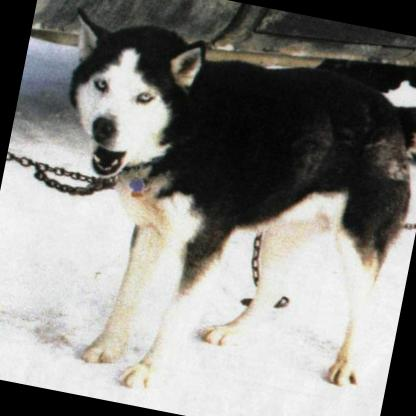Siberian_husky: (5, 2, 416, 416)
